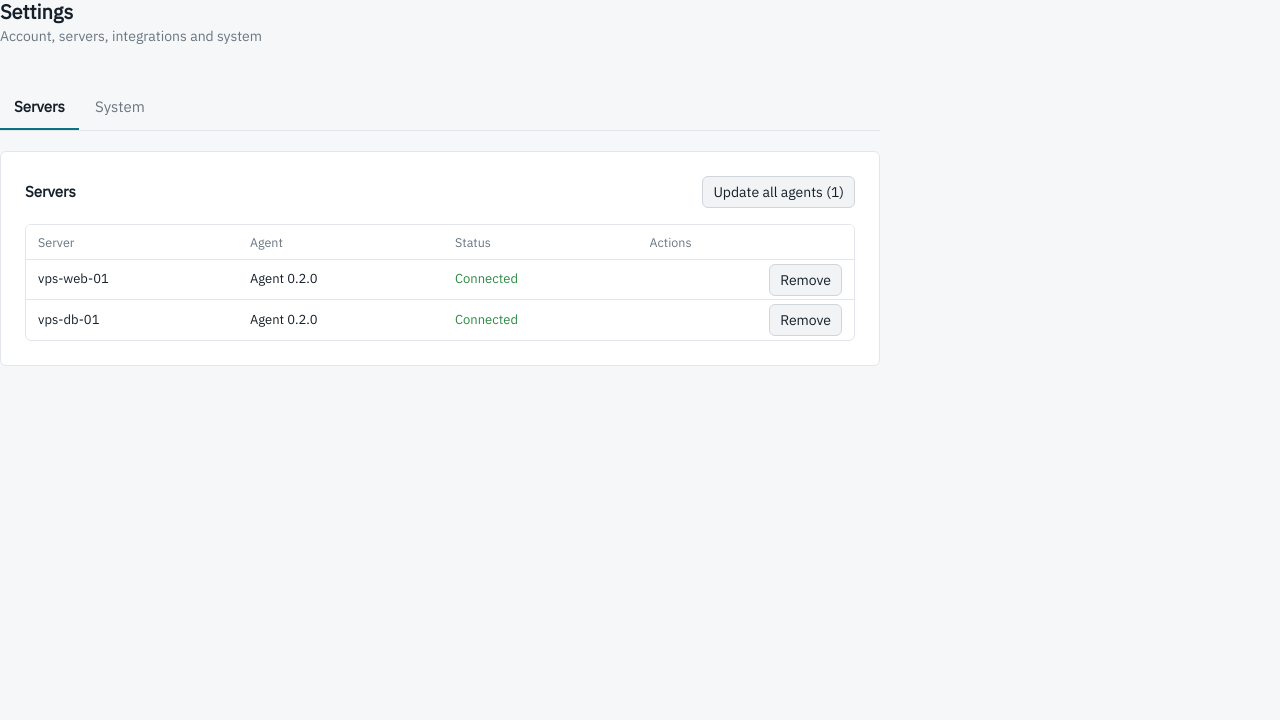
it: Settings › updates all agents and shows the queued and skipped counts
Click the button "Update all agents (1)": (779, 192) x1=702 y1=176 x2=855 y2=208
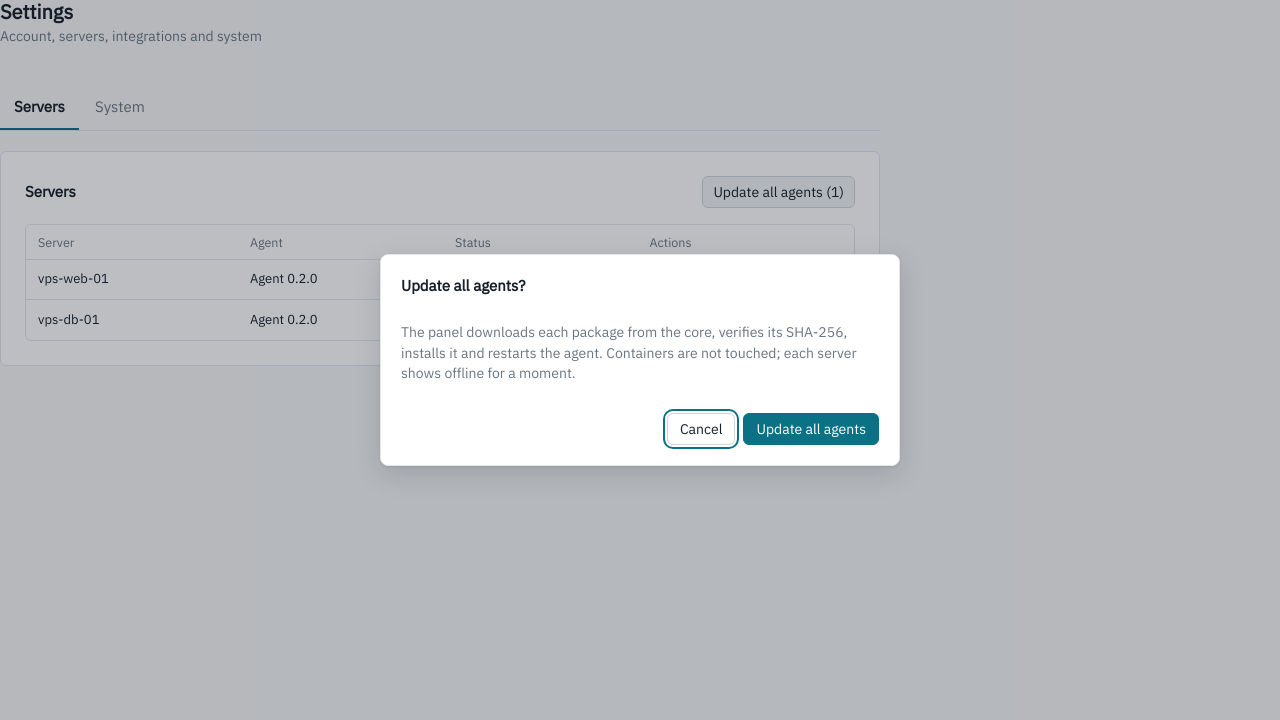
Expected: the heading "Update all agents?" is shown, x1=401 y1=276 x2=526 y2=295
Click the button "Update all agents": (811, 429) x1=744 y1=413 x2=879 y2=445
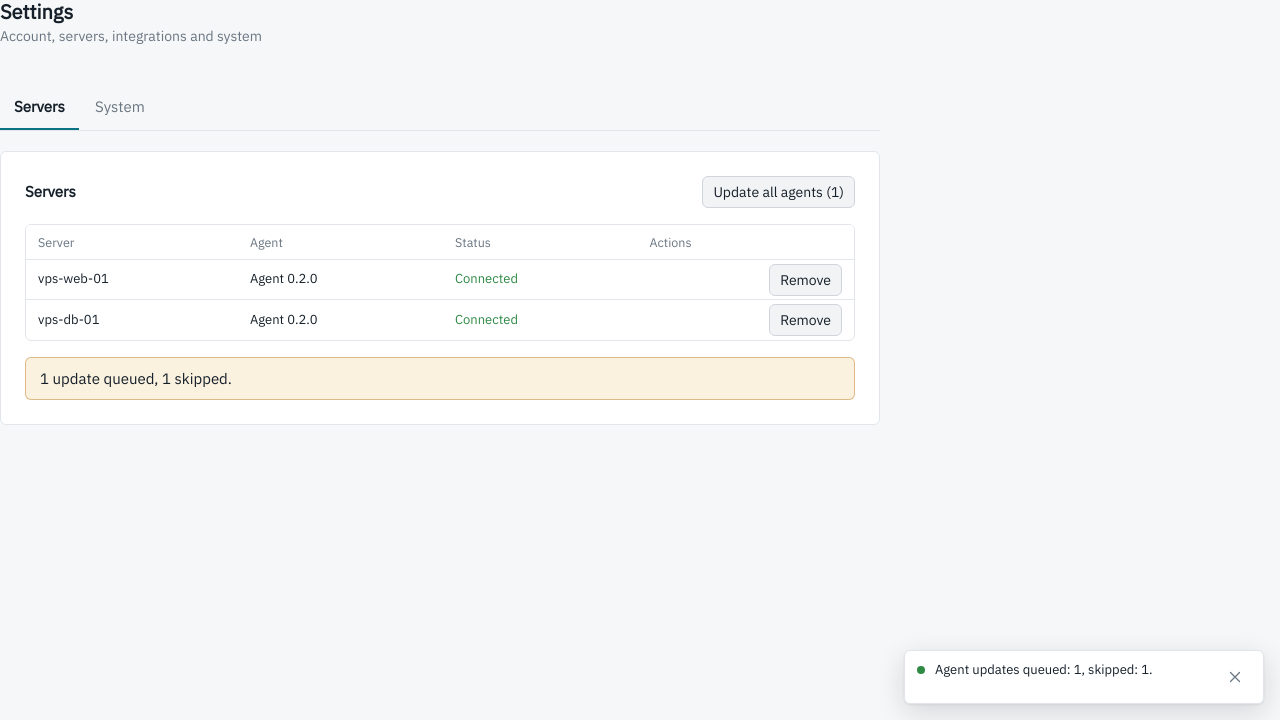
Expected: the text "1 update queued, 1 skipped." is shown, x1=25 y1=357 x2=855 y2=400
